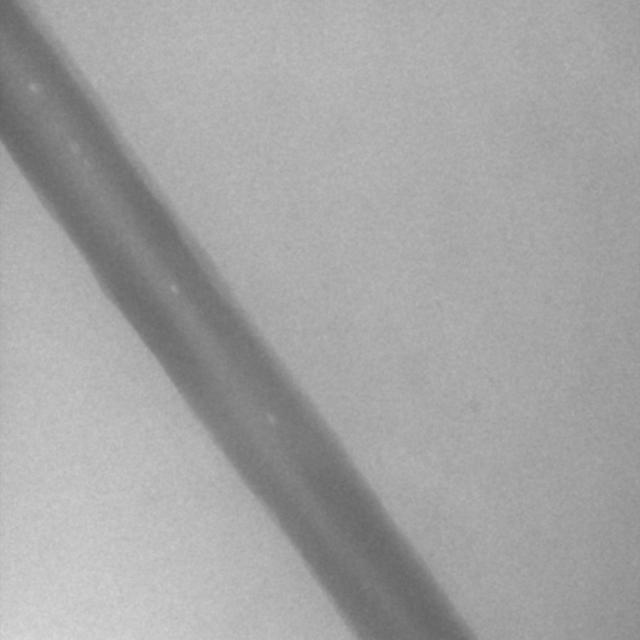air hole: (264, 408, 277, 425), (27, 79, 38, 95), (168, 280, 178, 295)
